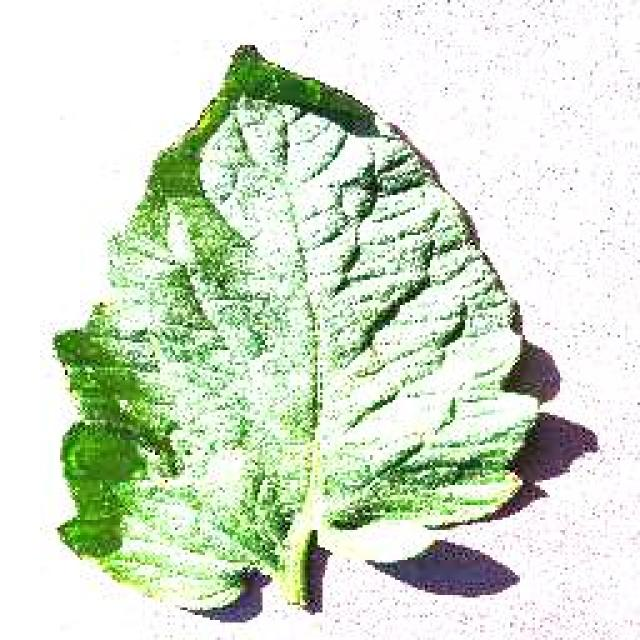Tomato___Target_Spot: (55, 48, 535, 610)
